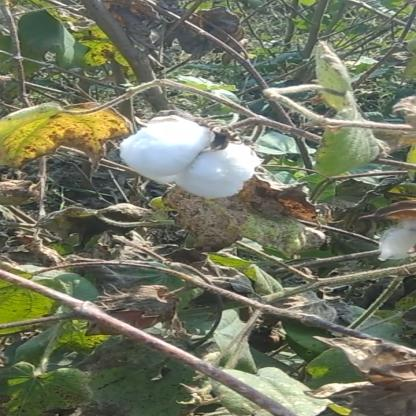cotton_ready: (118, 107, 274, 199)
